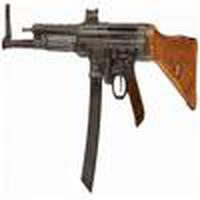gun: (5, 2, 200, 113)
